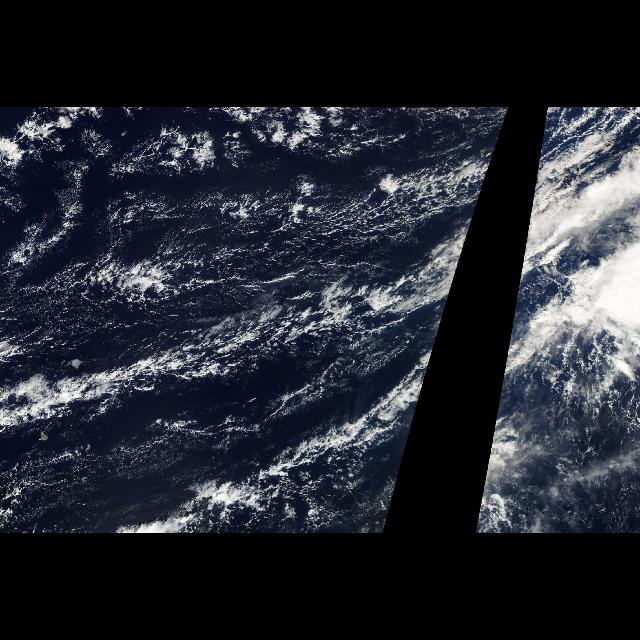Gravel: (20, 154, 482, 372), (4, 414, 264, 532)
